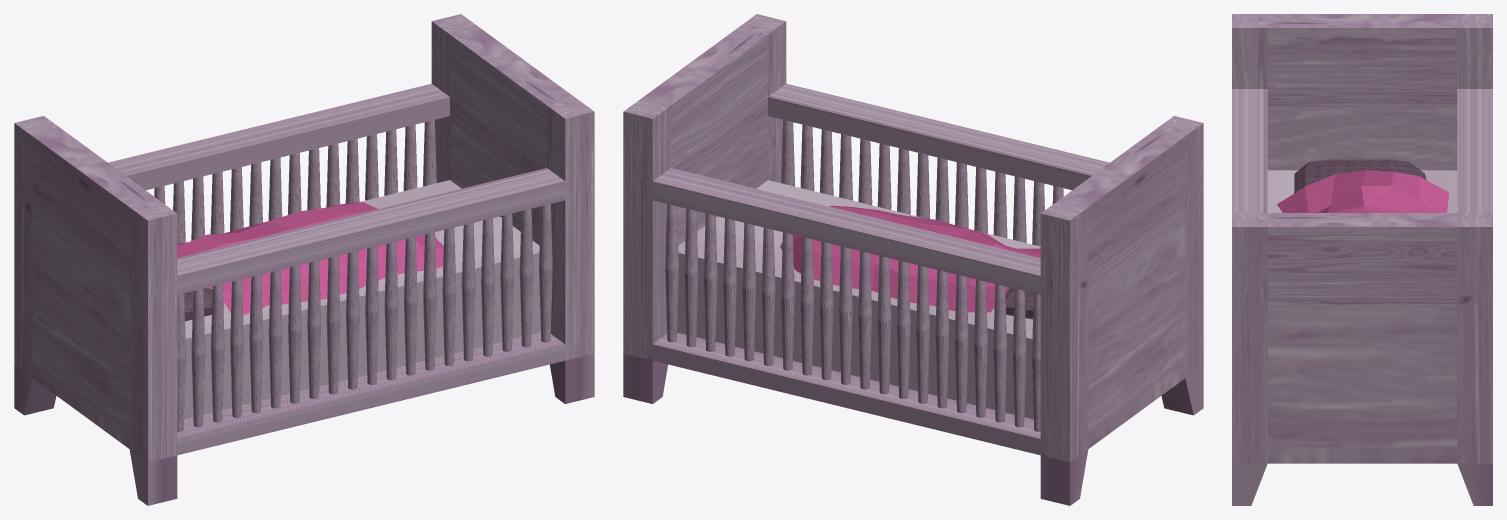
File: berco.fbx
3 renders of one model, left to right at view 1: azimuth 30°, elevation 25°; view 2: azimuth 150°, elevation 25°; view 3: azimuth 270°, elevation 25°, orthographic. The views are drawn at different scales.
Parts seen in each view (by area): view 1: Cube, Cylinder, Plane; view 2: Cube, Cylinder, Plane; view 3: Cube, Plane, Cube.001.
Boxes of the visible parts, <box> form: Cube: <box>14,14,594,505</box>; Cylinder: <box>154,120,552,431</box>; Plane: <box>177,202,443,315</box>; Cube: <box>623,14,1203,505</box>; Cylinder: <box>665,120,1063,431</box>; Plane: <box>780,205,1040,312</box>; Cube: <box>1232,14,1492,505</box>; Plane: <box>1277,170,1448,212</box>; Cube.001: <box>1294,159,1426,193</box>.
Bounding box in the file's own units: 387 × 236 × 200.
3 materials, 3 textured.
